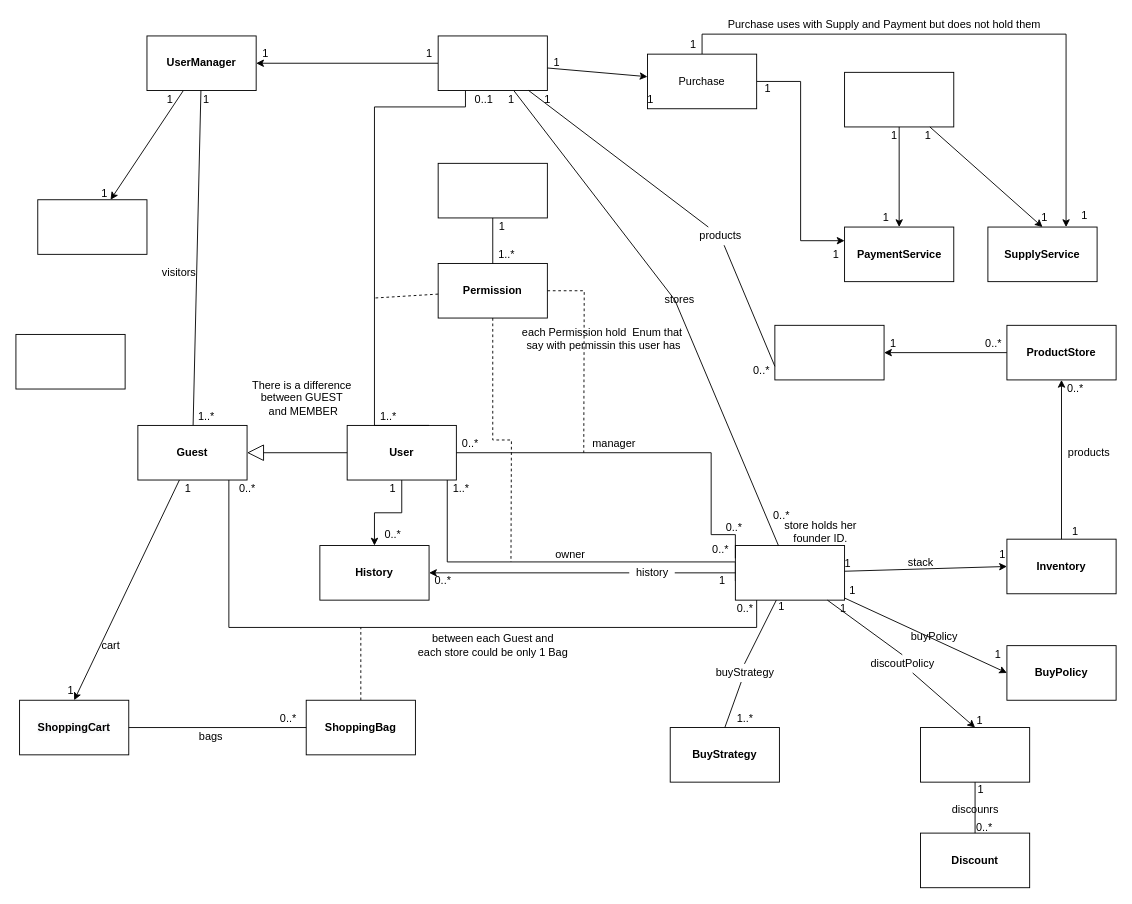
Some shapes in this 1132 by 904 pixel diagram are drawn without their labels. The centre of each missing label's shape, as x and y in pixels:
AlertService: (92,226)
DiscountPolicy: (975,754)
ExternalServices: (899,99)
Market: (492,63)
PermissionManager: (492,190)
ProductType: (829,352)
Store: (789,572)
Validator: (70,361)
